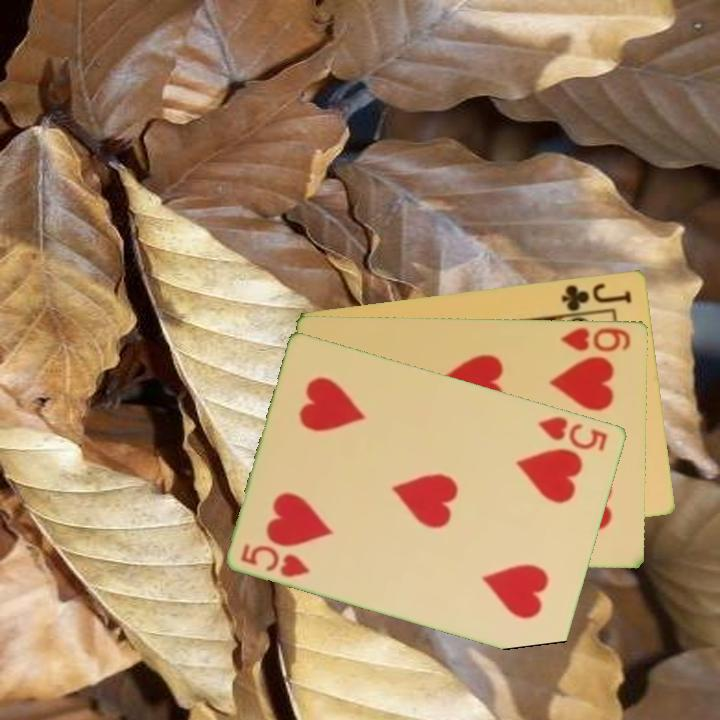5h: (535, 412, 611, 454), (237, 540, 313, 580)
6h: (558, 323, 634, 355)
Jc: (558, 279, 635, 314)
